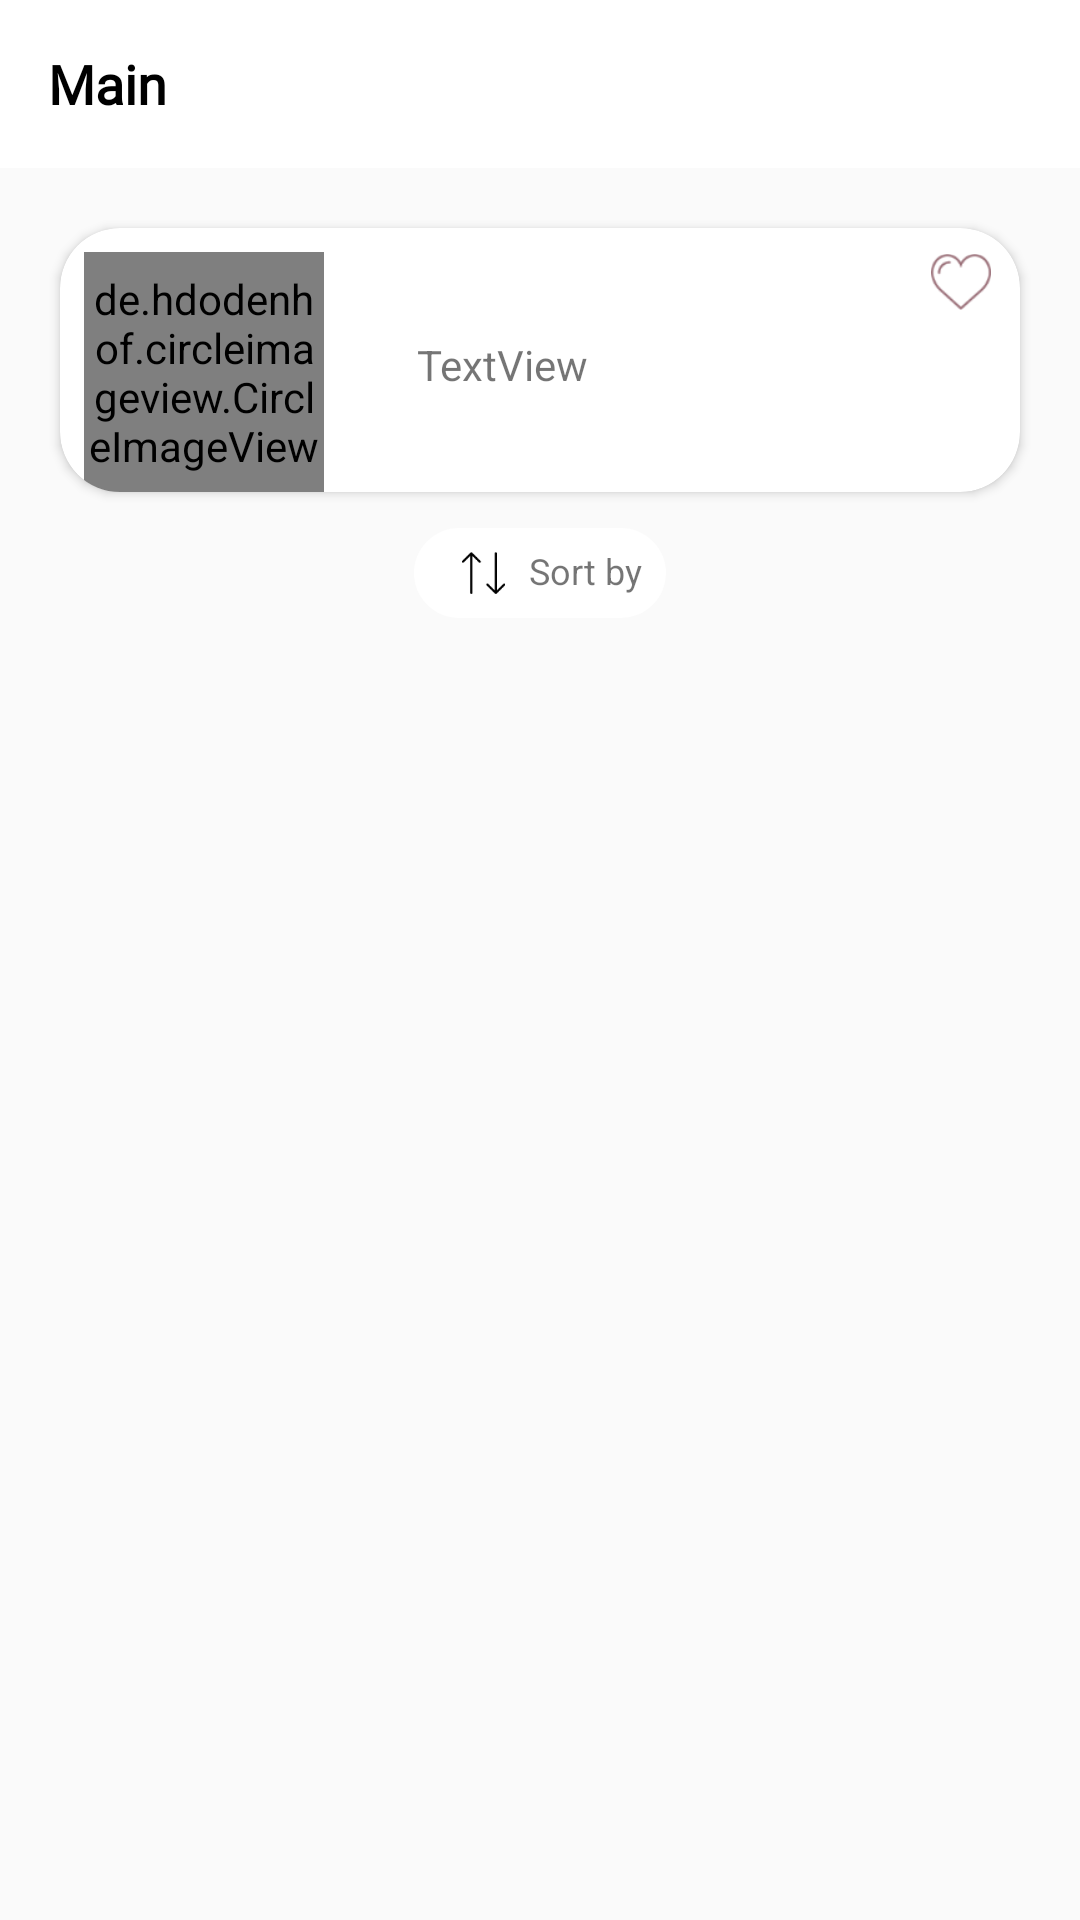

Named icons in this screenshot (1080×1920) and their centers, (x=x, y=y):
fav: (x=961, y=282)
